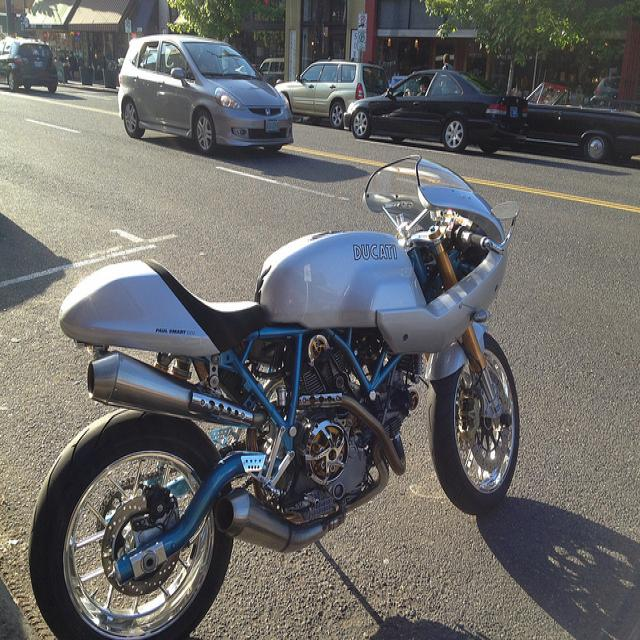motor: (28, 147, 529, 640)
